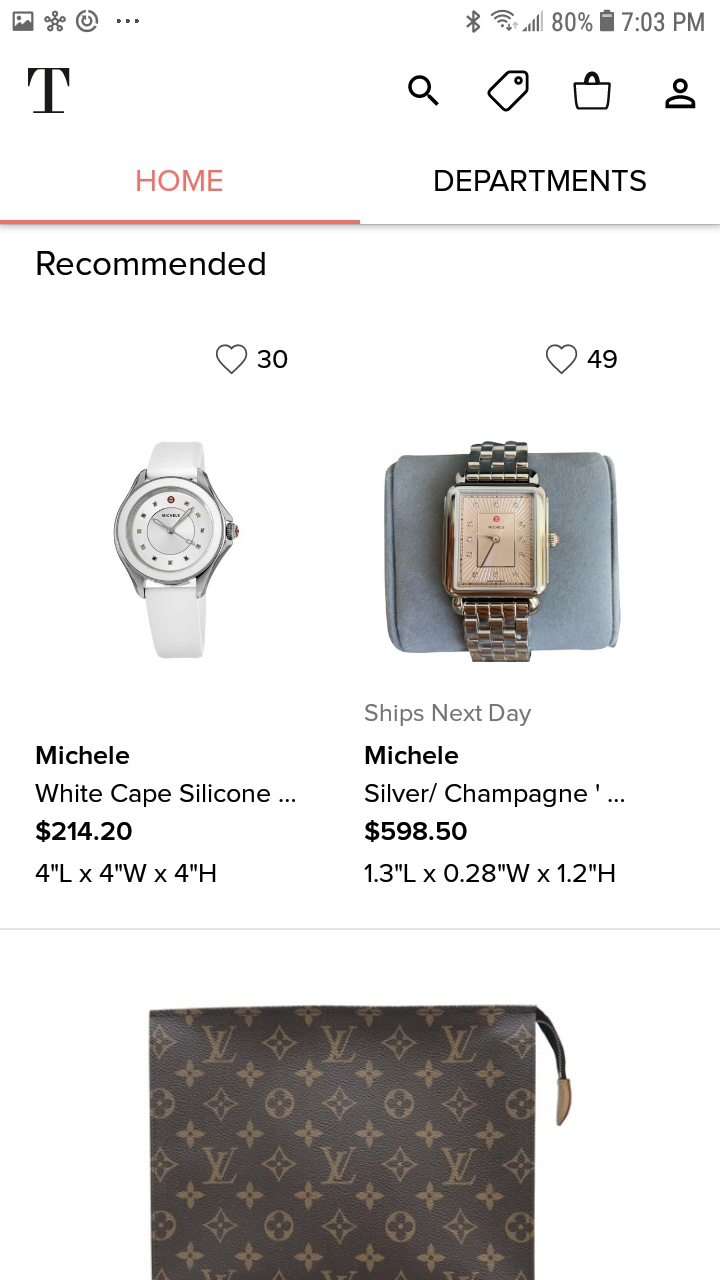Icon: (487, 70, 530, 113), (573, 72, 612, 111), (546, 344, 578, 376), (216, 344, 248, 375), (408, 76, 440, 107), (665, 79, 696, 110)
Image: (149, 1005, 572, 1280), (383, 440, 621, 663), (114, 444, 241, 659)
Text: (34, 783, 297, 808), (365, 783, 625, 808), (37, 251, 266, 276), (364, 863, 616, 883), (435, 170, 647, 193), (365, 703, 532, 727), (35, 862, 217, 883), (364, 820, 467, 843), (36, 820, 133, 843), (136, 170, 223, 193), (37, 746, 131, 766), (29, 69, 70, 114), (365, 746, 459, 765), (587, 350, 617, 369), (258, 350, 288, 369)
UpperTaskBar: (1, 1, 704, 34)
